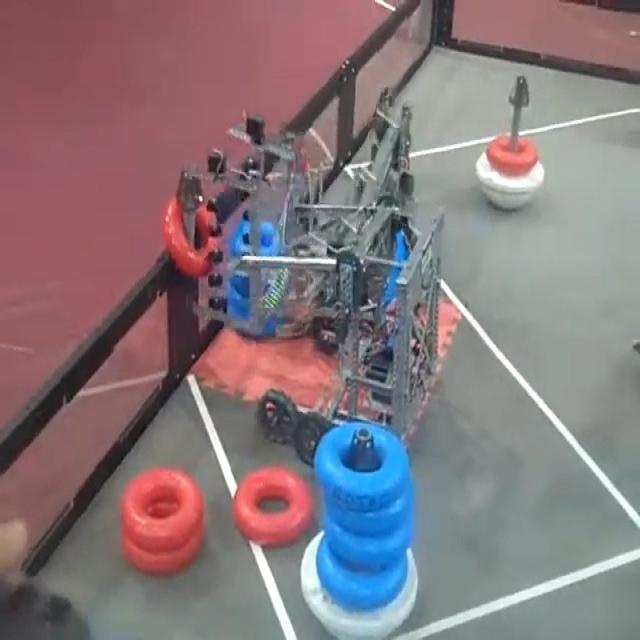Blue-Ring: (315, 422, 409, 511), (316, 532, 408, 609), (325, 512, 412, 569), (325, 492, 412, 535), (227, 286, 284, 337), (234, 220, 289, 269)
Red-Ring: (121, 470, 204, 551), (234, 467, 311, 546), (162, 198, 218, 278), (121, 531, 202, 575), (486, 135, 539, 177)
